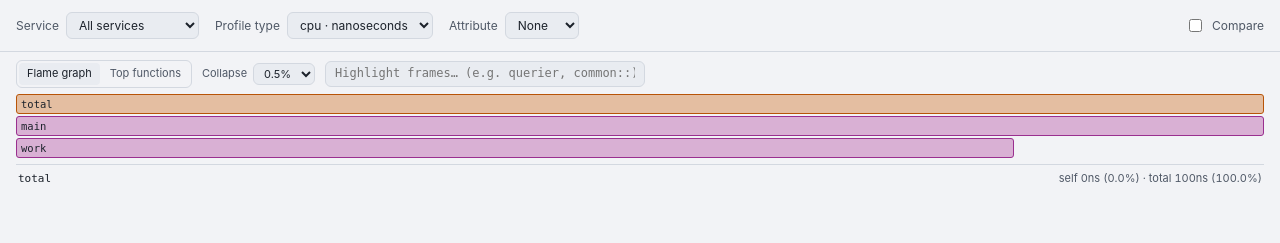
Test: ProfilesView › passes the view's tenant to the flame graph's Top-functions table
Check: the button "main" is shown, box [16,116,1264,136]
Click the tab "Top functions" at (145, 74), box [102,63,189,85]
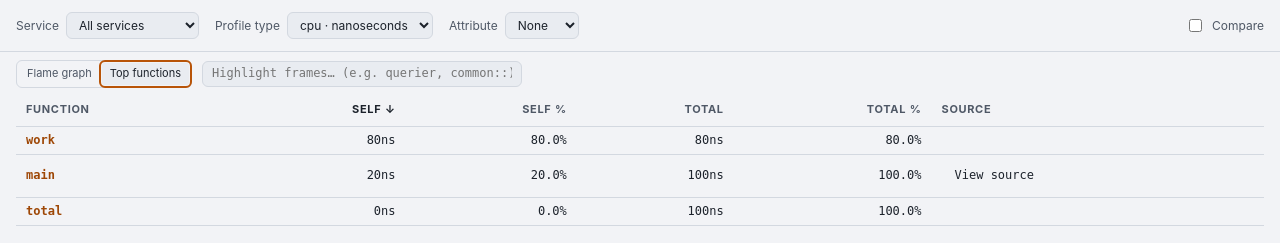
Check: the button "View source" is shown, box [942,160,1047,192]
